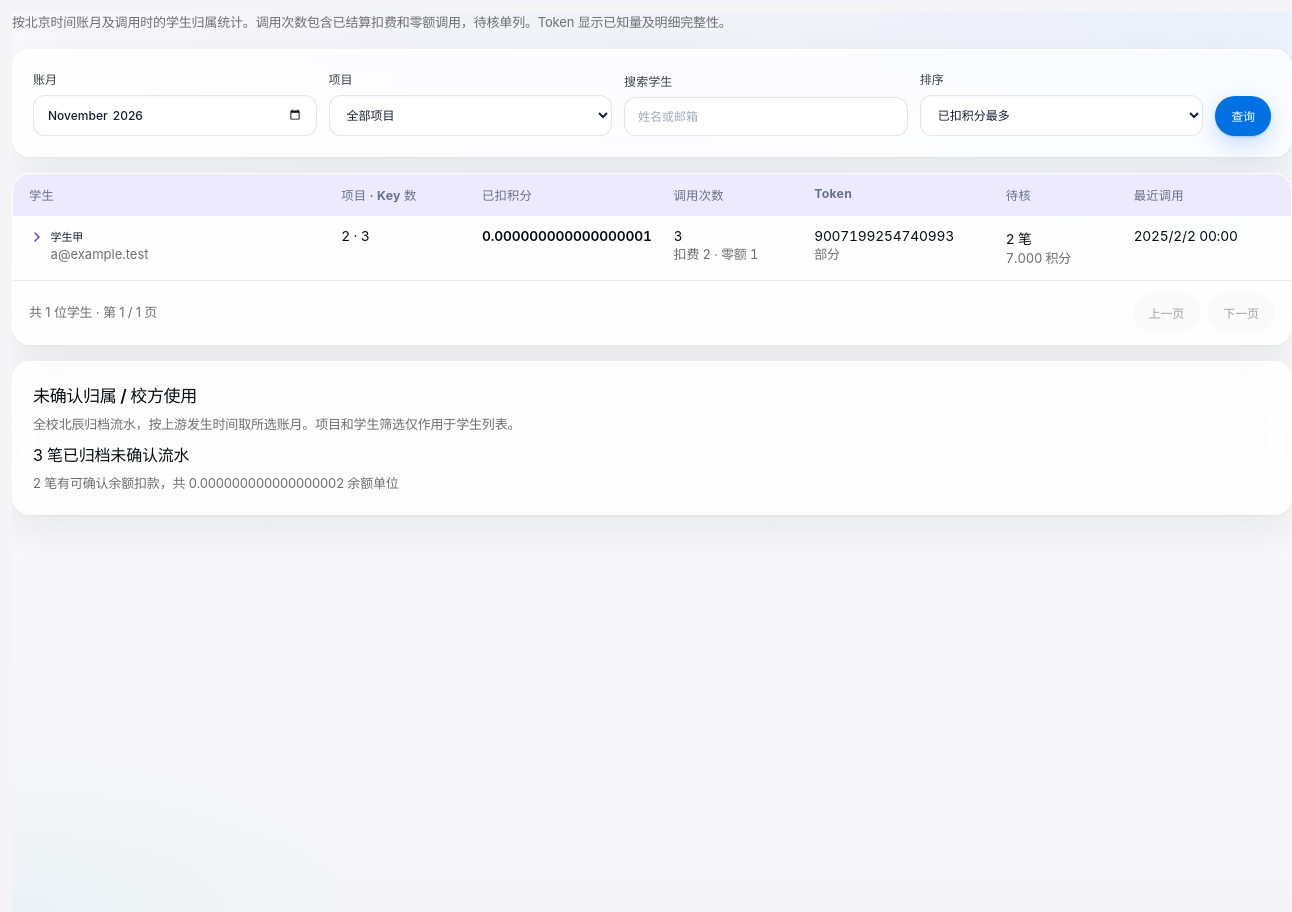
Test: 明细错误可重试，换筛选时取消并忽略旧明细
Click the button with class "student-button".
click(67, 237)  # box [29,228,324,264]
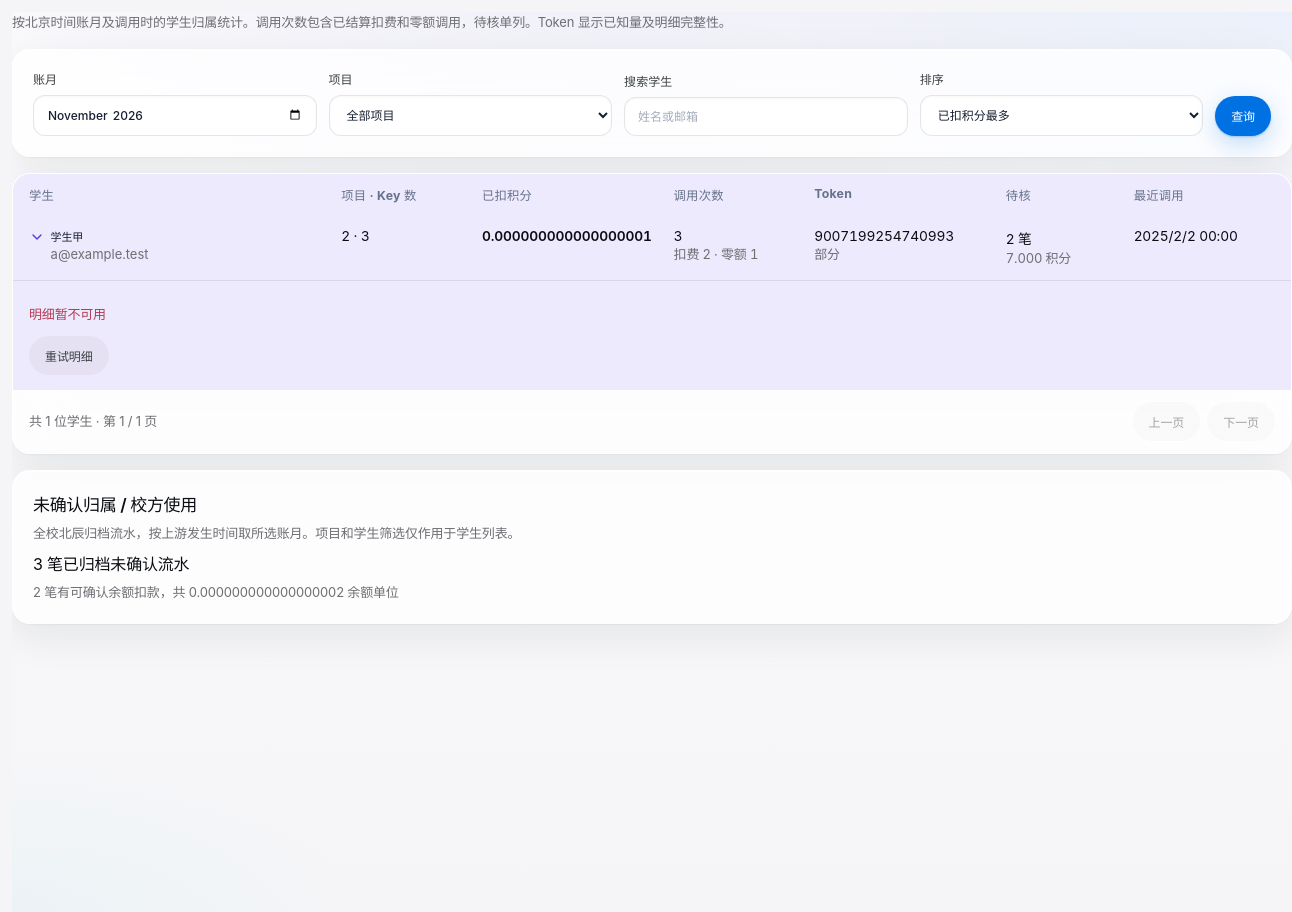
Now the message "明细暂不可用 重试明细" is shown, box [29,306,108,375]
Click the button "重试明细".
click(69, 356)  # box [29,336,108,375]
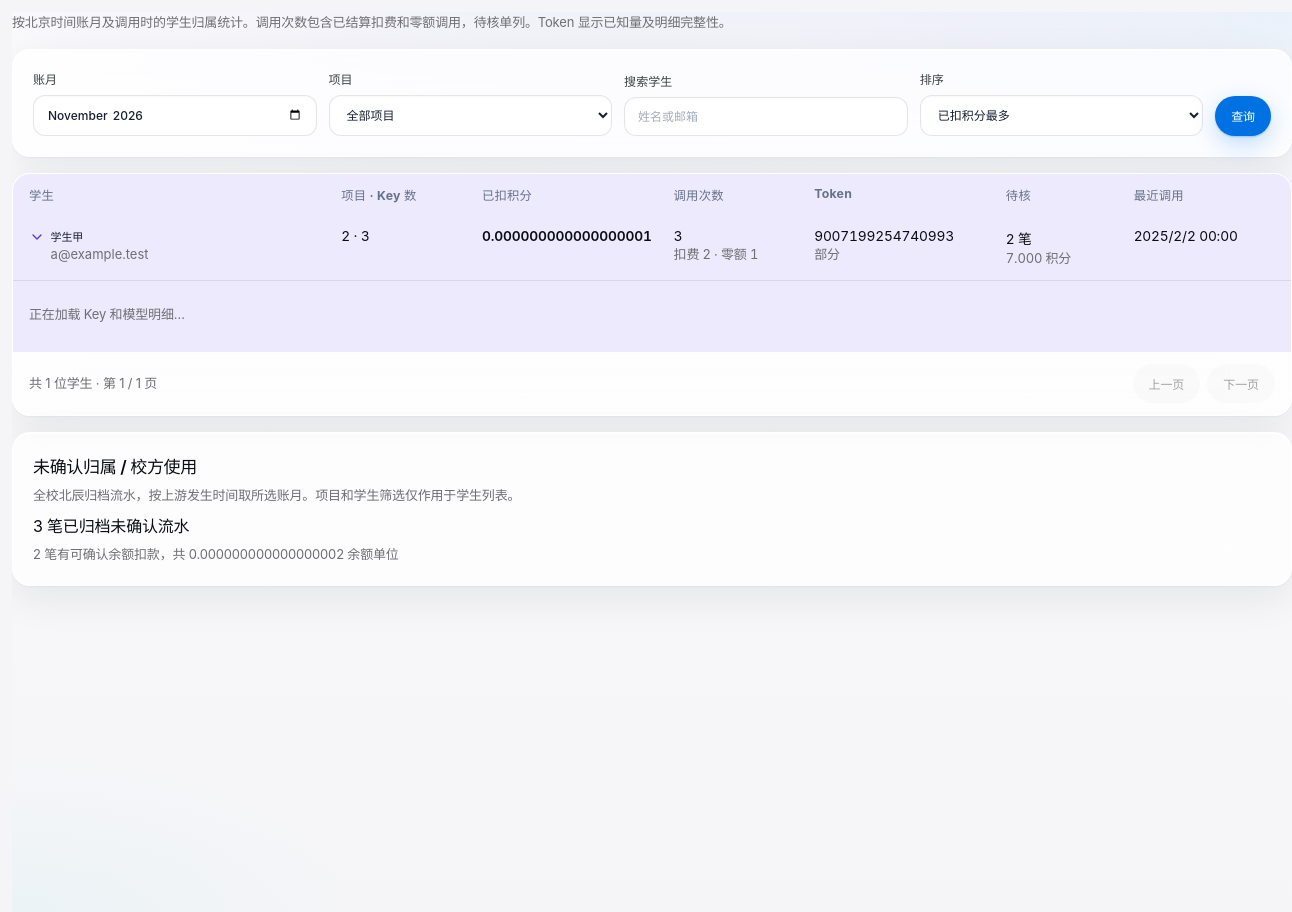
Now the message "正在加载 Key 和模型明细…" is shown, box [29,306,185,322]
Type "学生乙" into the search field labelled "搜索学生".
click(766, 116); type("学生乙")  # box [624,97,908,136]
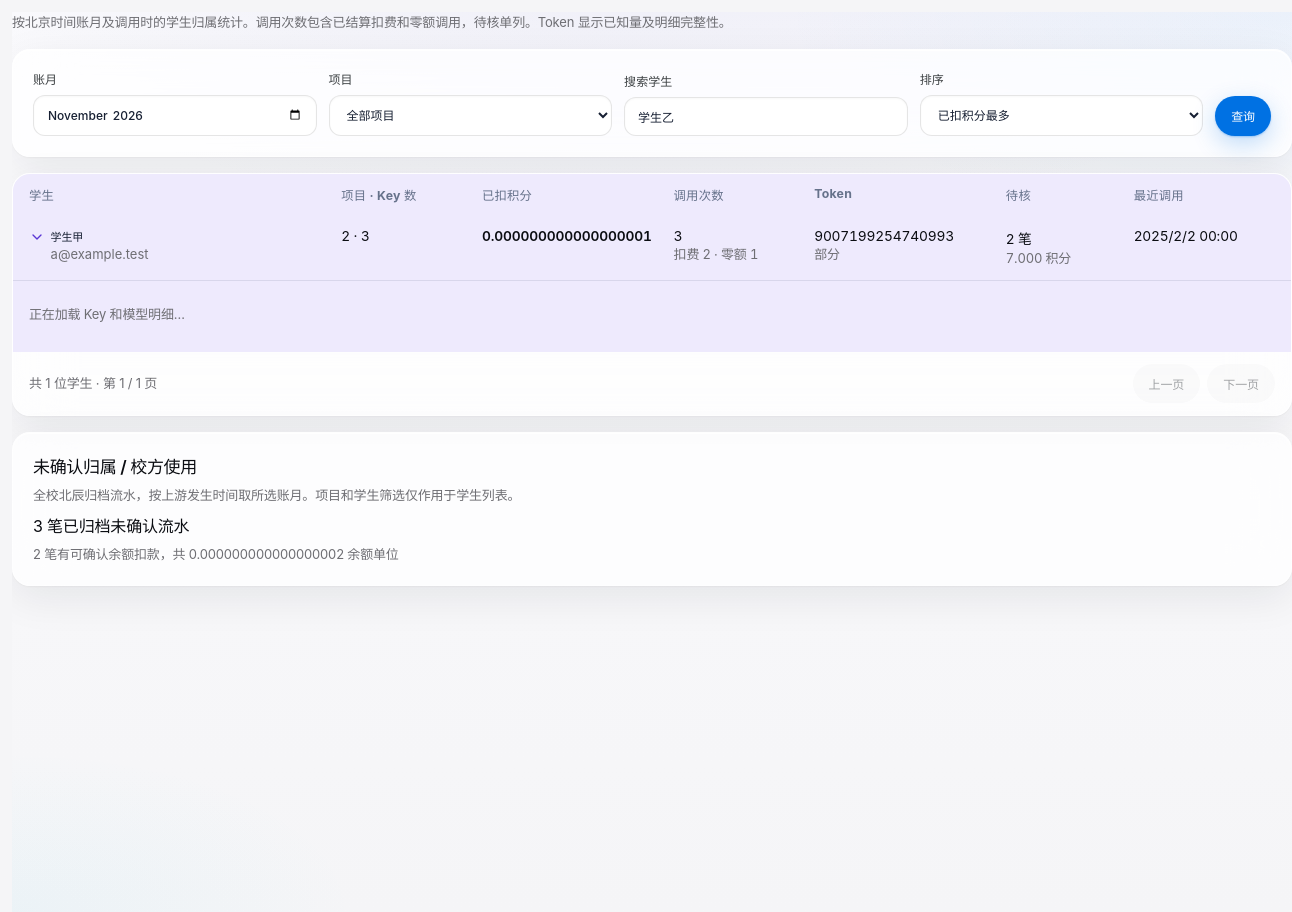
Submit the form, box [12,49,1291,157]
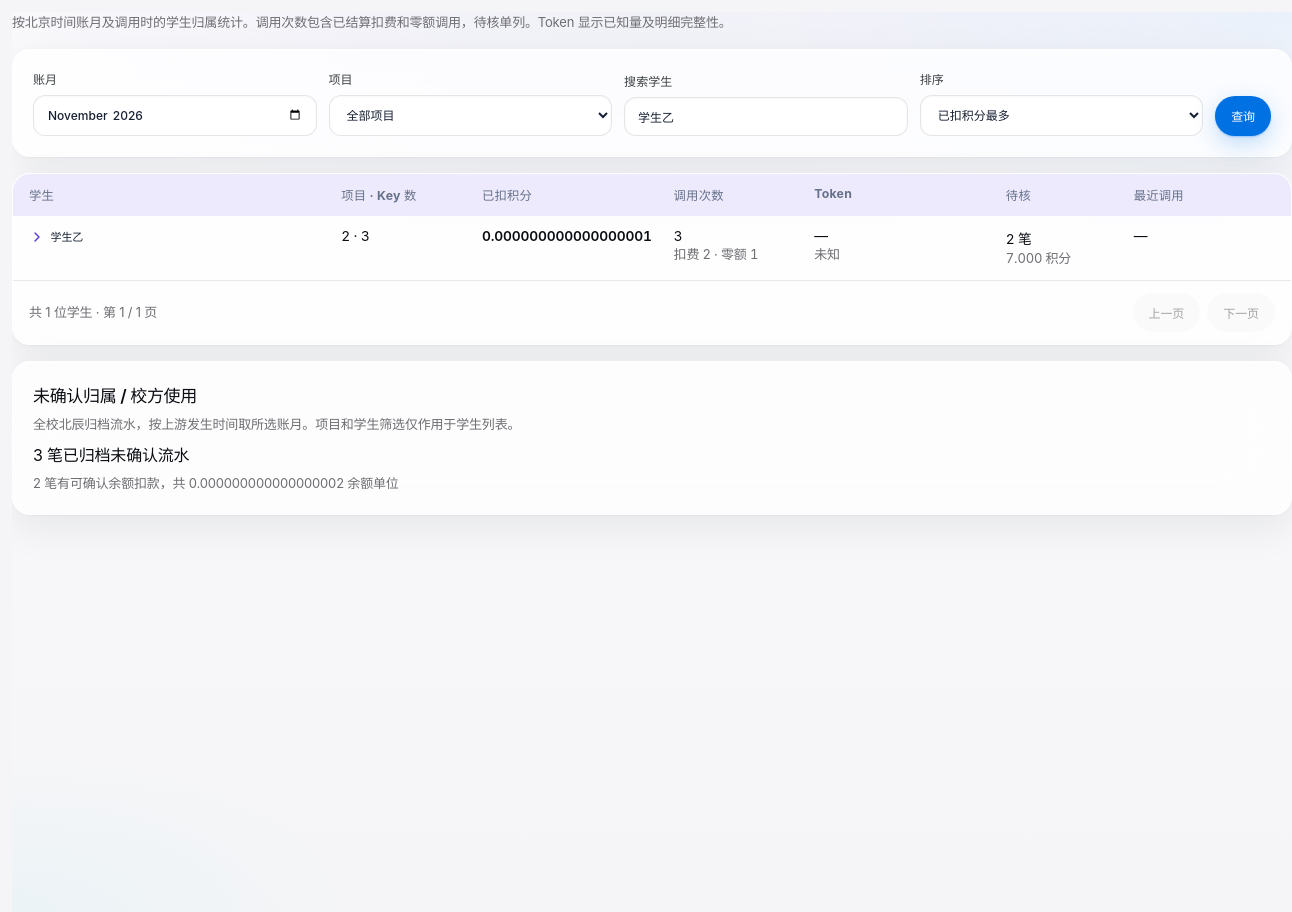
Now the row with class "student-row" shows "学生乙", box [29,228,324,245]
